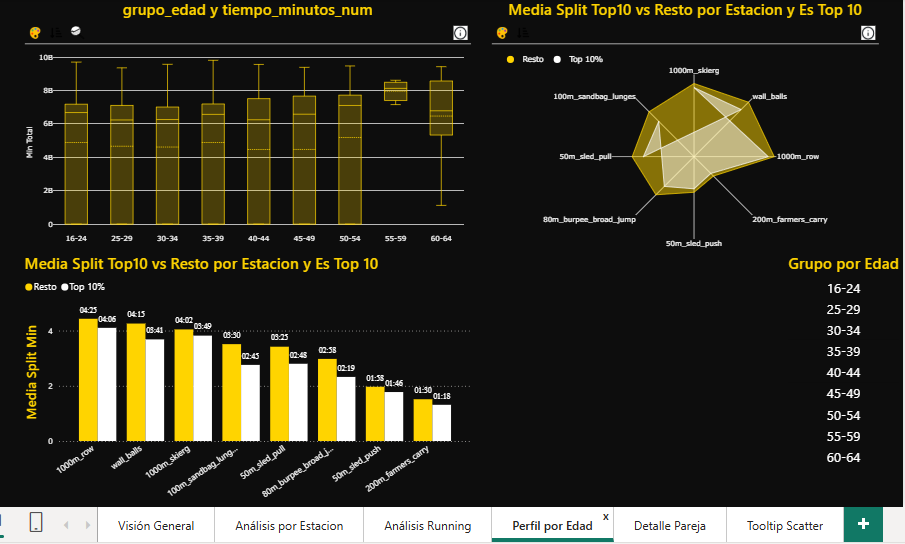

The dashboard page shown, as its layout file describes it:
{"tool":"powerbi","page":{"name":"Perfil por Edad","canvas":[1280,720],"ordinal":3},"visuals":[{"type":"boxandwhiskerwithpoints6C29D629F202A5FF5B6B023486584FCA","fields":{"col_0":["splits_largo.grupo_edad"],"col_2":["hyrox_bilbao_2026_master.tiempo_minutos_num"]},"box":[29.9,0,642.8,359.8],"z":0},{"type":"clusteredColumnChart","fields":{"Category":["splits_largo.Estacion"],"Series":["hyrox_bilbao_2026_master.Es Top 10"],"Y":["_Medidas.Media Split Top10 vs Resto"]},"box":[29.9,359.8,642.8,359.8],"z":1000},{"type":"polarB605C239BFD9BFED71A7A3BE1340EFEB","fields":{"col_0":["splits_largo.Estacion"],"col_1":["_Medidas.Media Split Top10 vs Resto"],"col_6":["hyrox_bilbao_2026_master.Es Top 10"]},"box":[691.2,0,558.9,359.8],"z":2000},{"type":"listSlicer","title":"Grupo por Edad","fields":{"Values":["dim_categoria.grupo_edad"]},"box":[1110.8,359.8,169.2,359.8],"z":3000}]}

Visuals, with their boxes on the page's 1280x720 design canvas (x1, y1, x2, y2). These are canvas units, not pixel positions in the 905x544 screenshot, which may show the page scaled, cropped or inside an application window:
boxandwhiskerwithpoints6C29D629F202A5FF5B6B023486584FCA - splits_largo.grupo_edad x hyrox_bilbao_2026_master.tiempo_minutos_num: box=[30, 0, 673, 360]
clusteredColumnChart - splits_largo.Estacion x hyrox_bilbao_2026_master.Es Top 10: box=[30, 360, 673, 720]
polarB605C239BFD9BFED71A7A3BE1340EFEB - splits_largo.Estacion x _Medidas.Media Split Top10 vs Resto: box=[691, 0, 1250, 360]
"Grupo por Edad" listSlicer: box=[1111, 360, 1280, 720]
